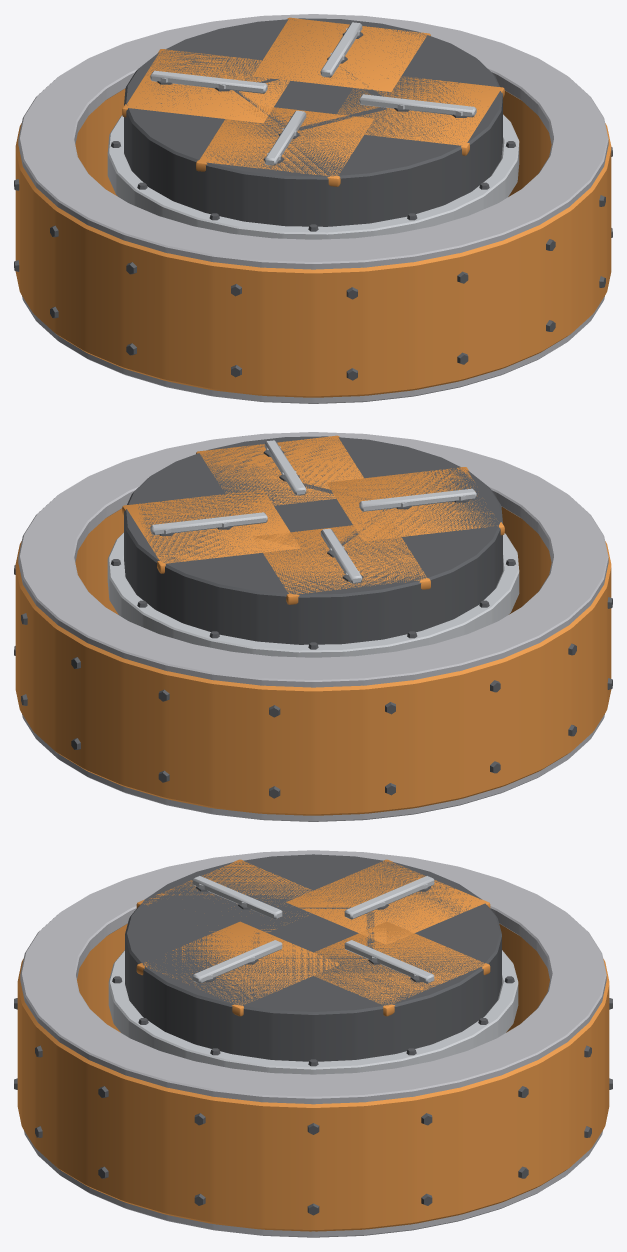
File: shell.glb
The picture shows the model from 3 angles, top to bottom: view 1: azimuth 30°, elevation 25°; view 2: azimuth 150°, elevation 25°; view 3: azimuth 270°, elevation 25°; orthographic projection.
Parts seen in each view (by area): view 1: ring, body; view 2: ring, body; view 3: ring, body.
Part boxes in pixels (<box>): ring: <box>14,14,612,403</box>; body: <box>107,17,519,239</box>; ring: <box>14,432,612,821</box>; body: <box>107,435,519,657</box>; ring: <box>14,850,612,1237</box>; body: <box>108,854,518,1074</box>.
Bounding box in the file's own units: 0.809 × 0.2905 × 0.809.
